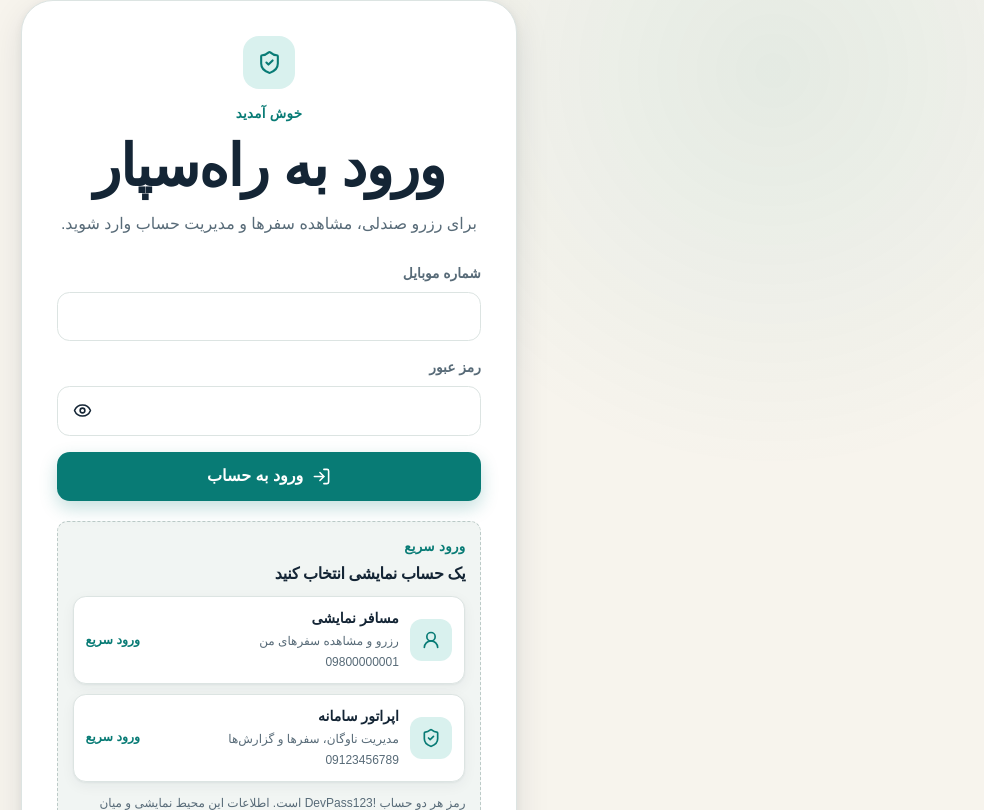
LoginPage demo accounts › disables every login path while a demo login is pending
Click the button "مسافر نمایشی رزرو و مشاهده سفرهای من 09800000001 ورود سریع" at (269, 640), box [73,596,465,684]
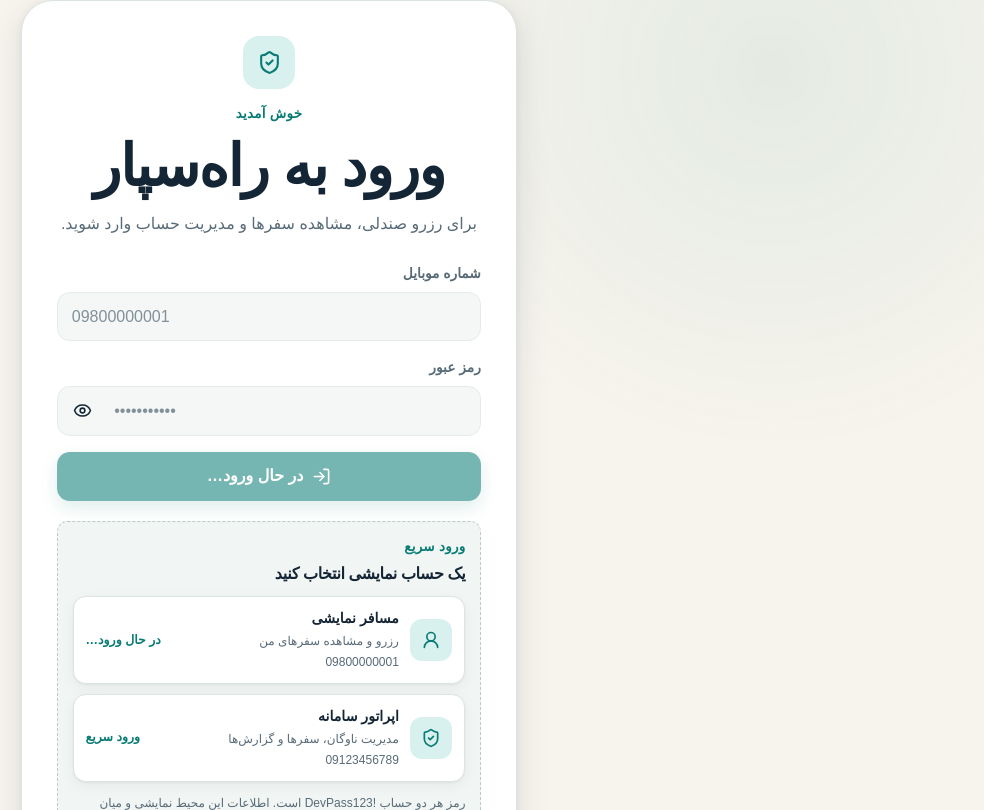
Expected: the field labelled "شماره موبایل" is disabled, [57,292,481,341]
Expected: the password field labelled "رمز عبور" is disabled, [57,386,481,436]
Expected: the button "در حال ورود…" is disabled, [57,452,481,501]
